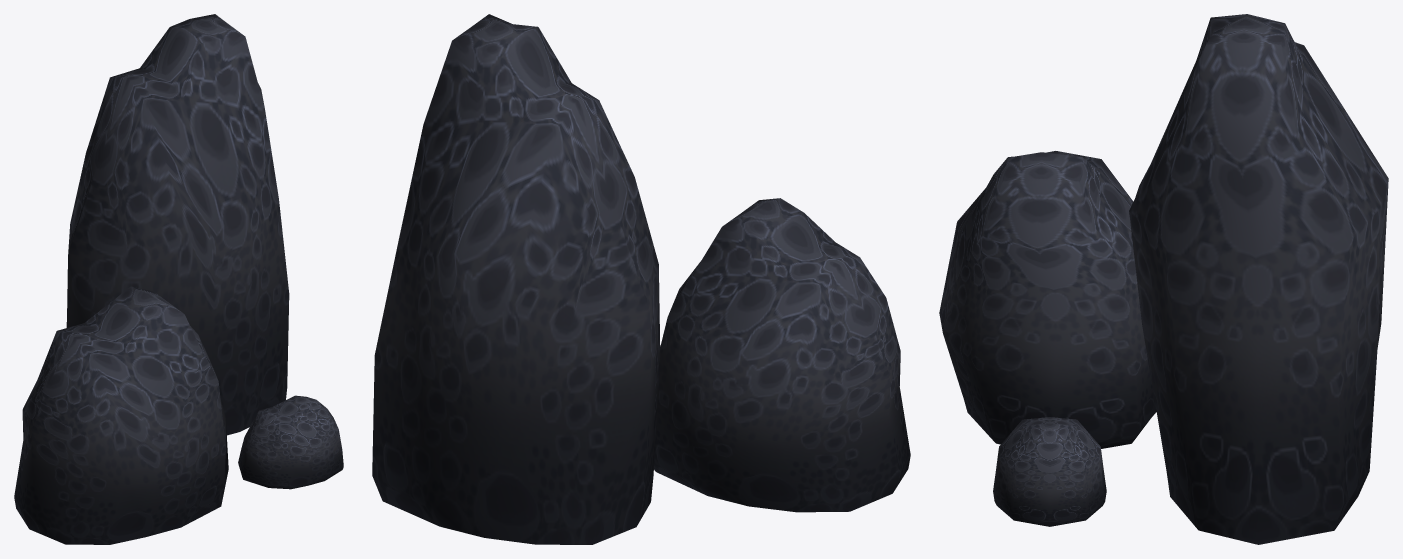
File: Rock_02_Group.FBX
3 views of the same model, side by side, from view 1: azimuth 30°, elevation 25°; view 2: azimuth 150°, elevation 25°; view 3: azimuth 270°, elevation 25° (orthographic). The views are drawn at different scales.
Parts seen in each view (by area): view 1: Rock_02_Group; view 2: Rock_02_Group; view 3: Rock_02_Group.
Boxes of the visible parts, x1=… form: Rock_02_Group: x1=14, y1=14, x2=343, y2=544; Rock_02_Group: x1=372, y1=14, x2=910, y2=544; Rock_02_Group: x1=939, y1=14, x2=1388, y2=544.
Size of the model in its own units: 121 by 131 by 113.
